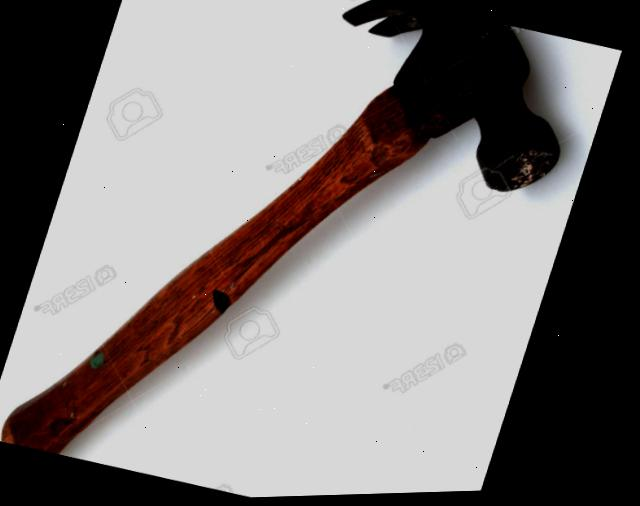hammer: (0, 0, 604, 505)
